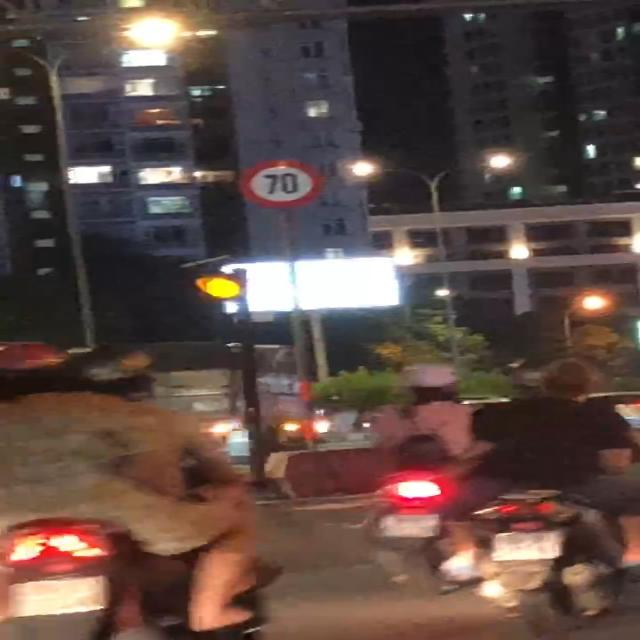Bien bao toc do toi da cho phep: (236, 157, 326, 209)
